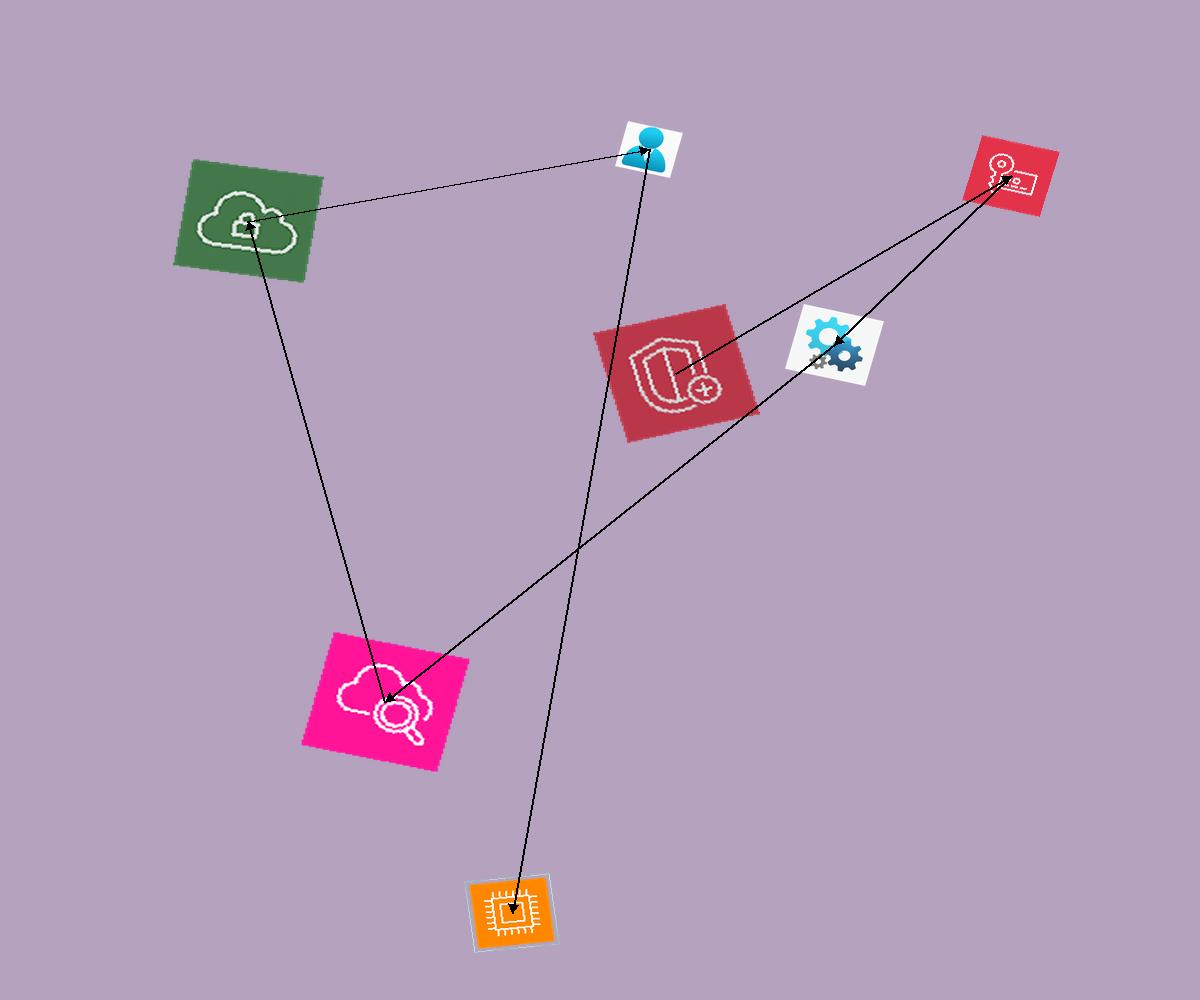AWS-Category_Compute: (464, 873, 560, 953)
AWS-CloudWatch: (300, 631, 471, 773)
AWS-Key-Management-Service: (962, 135, 1060, 217)
AWS-Private_vpc: (173, 158, 324, 284)
AWS-Shield: (593, 304, 760, 443)
Azure_api: (785, 304, 884, 386)
Azure_users: (615, 121, 683, 178)
